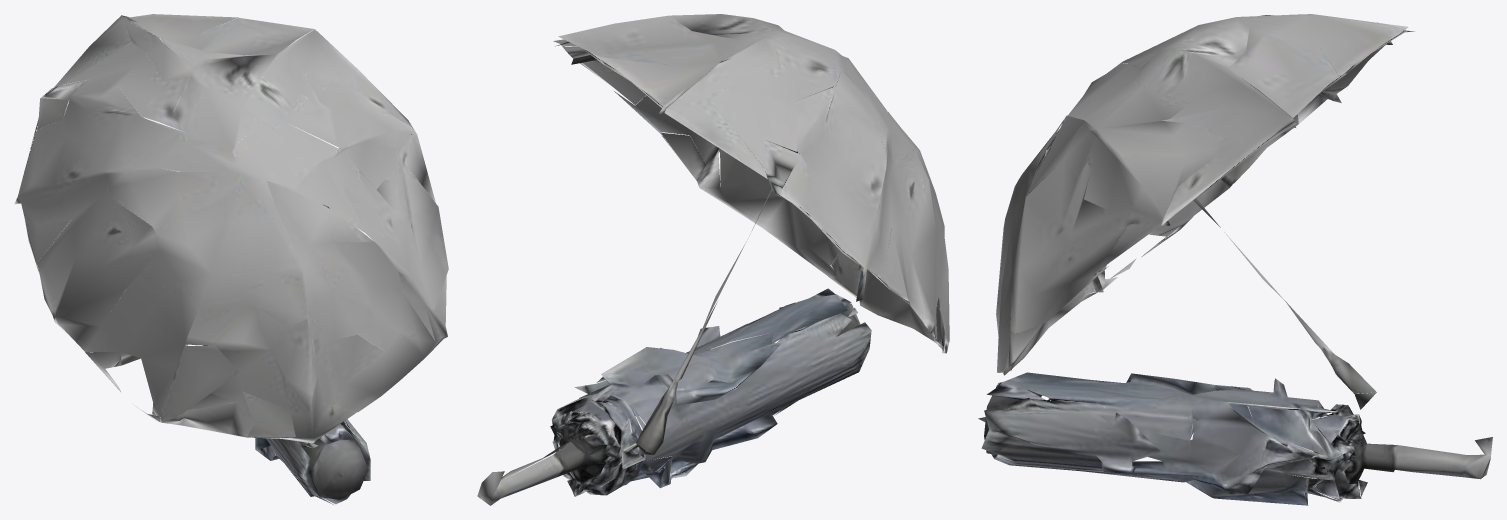
File: umbrella_clear.glb
3 renders of one model, left to right at view 1: azimuth 30°, elevation 25°; view 2: azimuth 150°, elevation 25°; view 3: azimuth 270°, elevation 25°, orthographic. The views are drawn at different scales.
Parts seen in each view (by area): view 1: tripo_node_3d4e0094-e5d2-4025-bb49-4c5becb07b5c; view 2: tripo_node_3d4e0094-e5d2-4025-bb49-4c5becb07b5c; view 3: tripo_node_3d4e0094-e5d2-4025-bb49-4c5becb07b5c.
Part boxes in pixels (bbox=[...]): tripo_node_3d4e0094-e5d2-4025-bb49-4c5becb07b5c: bbox=[14, 14, 448, 504]; tripo_node_3d4e0094-e5d2-4025-bb49-4c5becb07b5c: bbox=[477, 14, 949, 505]; tripo_node_3d4e0094-e5d2-4025-bb49-4c5becb07b5c: bbox=[978, 14, 1492, 505].
Size of the model in its own units: 0.9057 by 1 by 1.07.
Materials: 1 (1 with a texture image).
